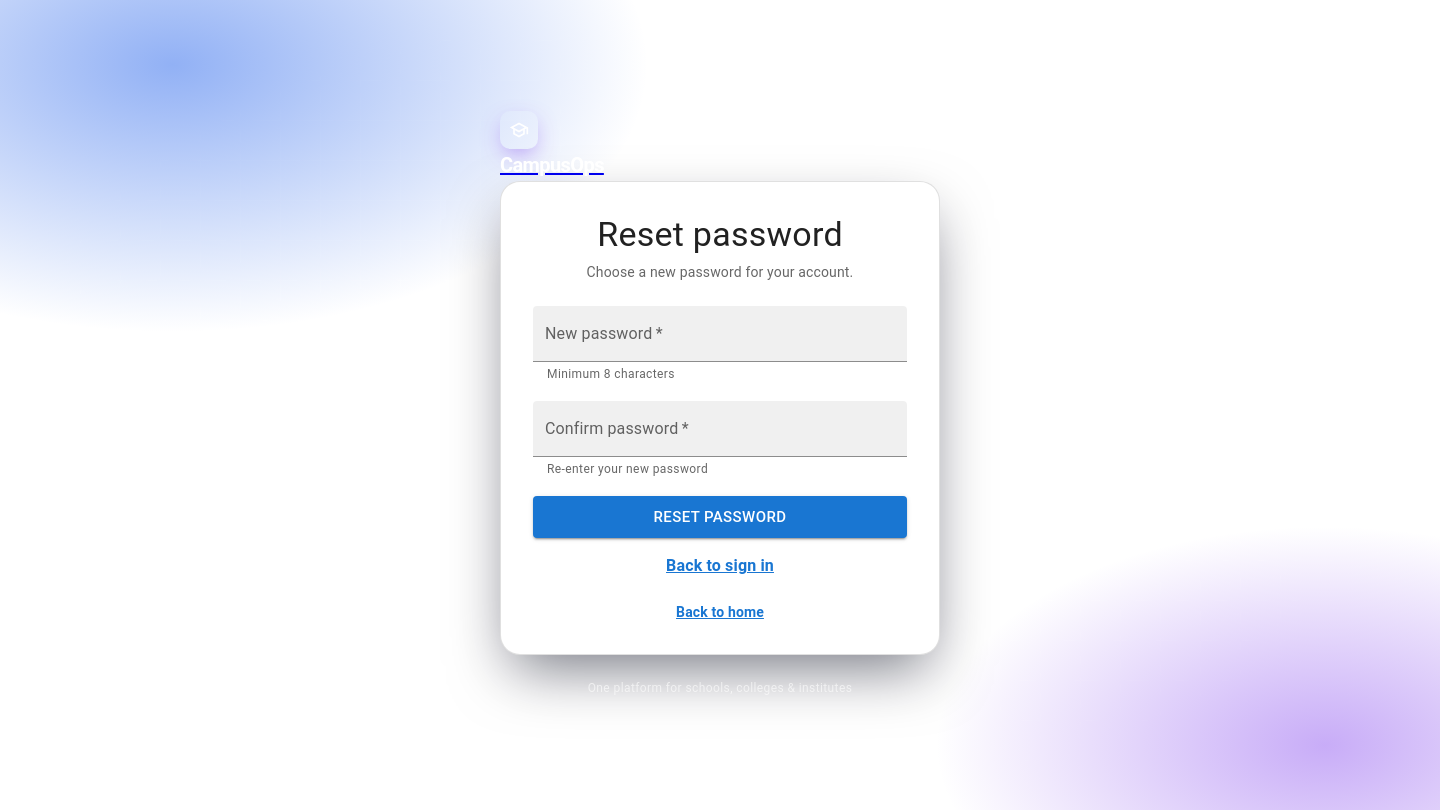
Test: ResetPasswordPage › shows success state after reset
Type "Password123!" into the password field labelled "New password *" at (720, 334), box left=533, top=306, right=907, bottom=362
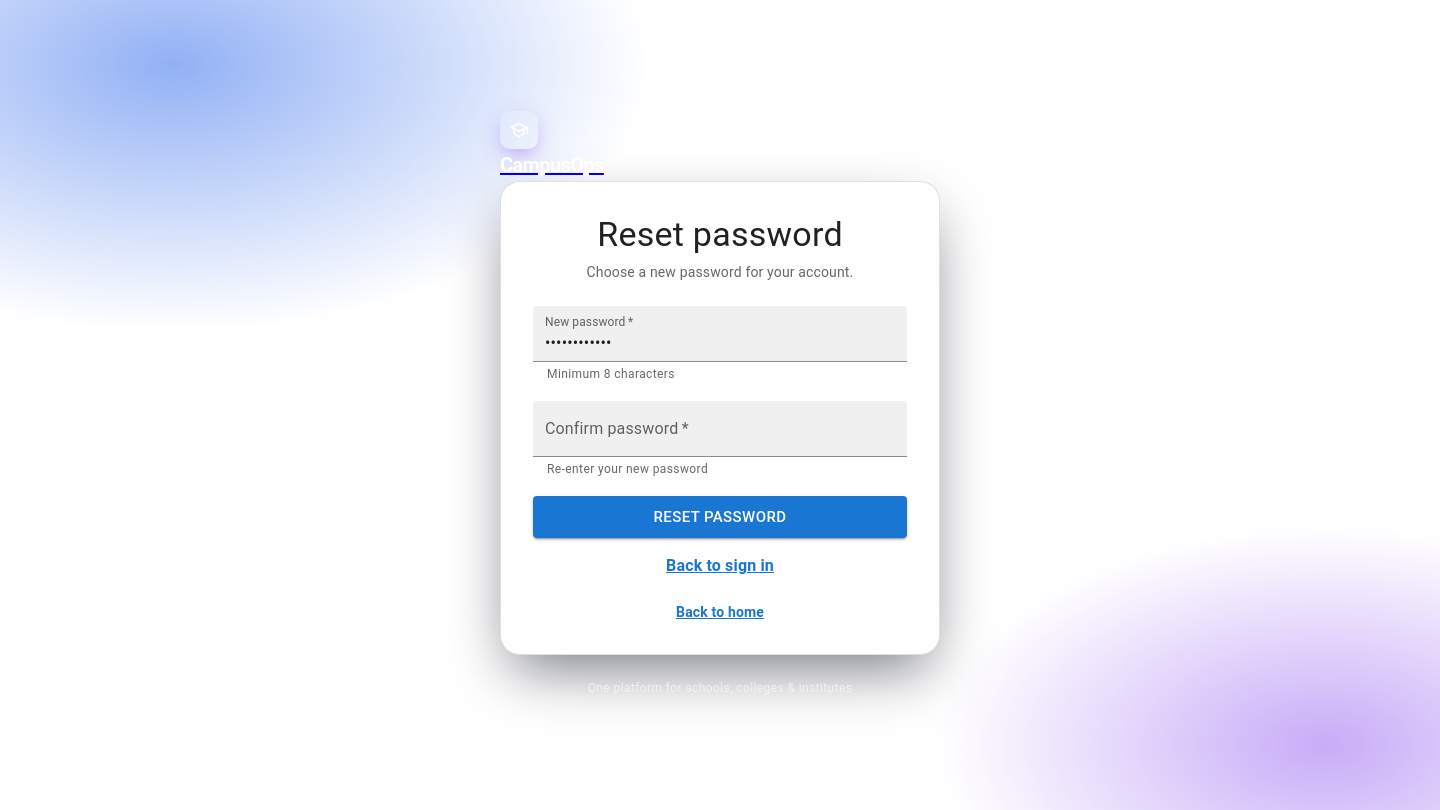
Type "Password123!" into the password field labelled "Confirm password *" at (720, 429), box left=533, top=401, right=907, bottom=457
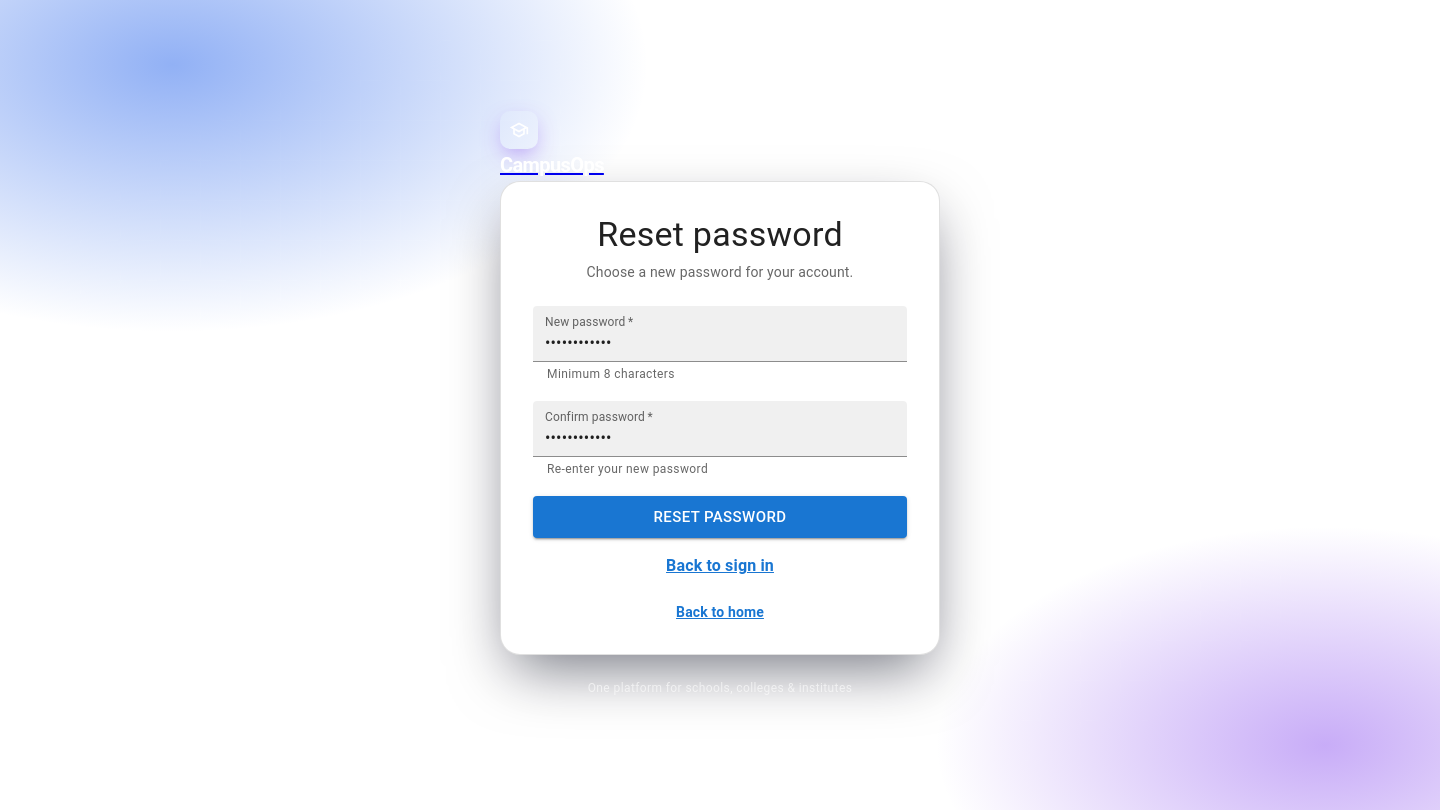
Click the button "Reset password" at (720, 517), box left=533, top=496, right=907, bottom=538
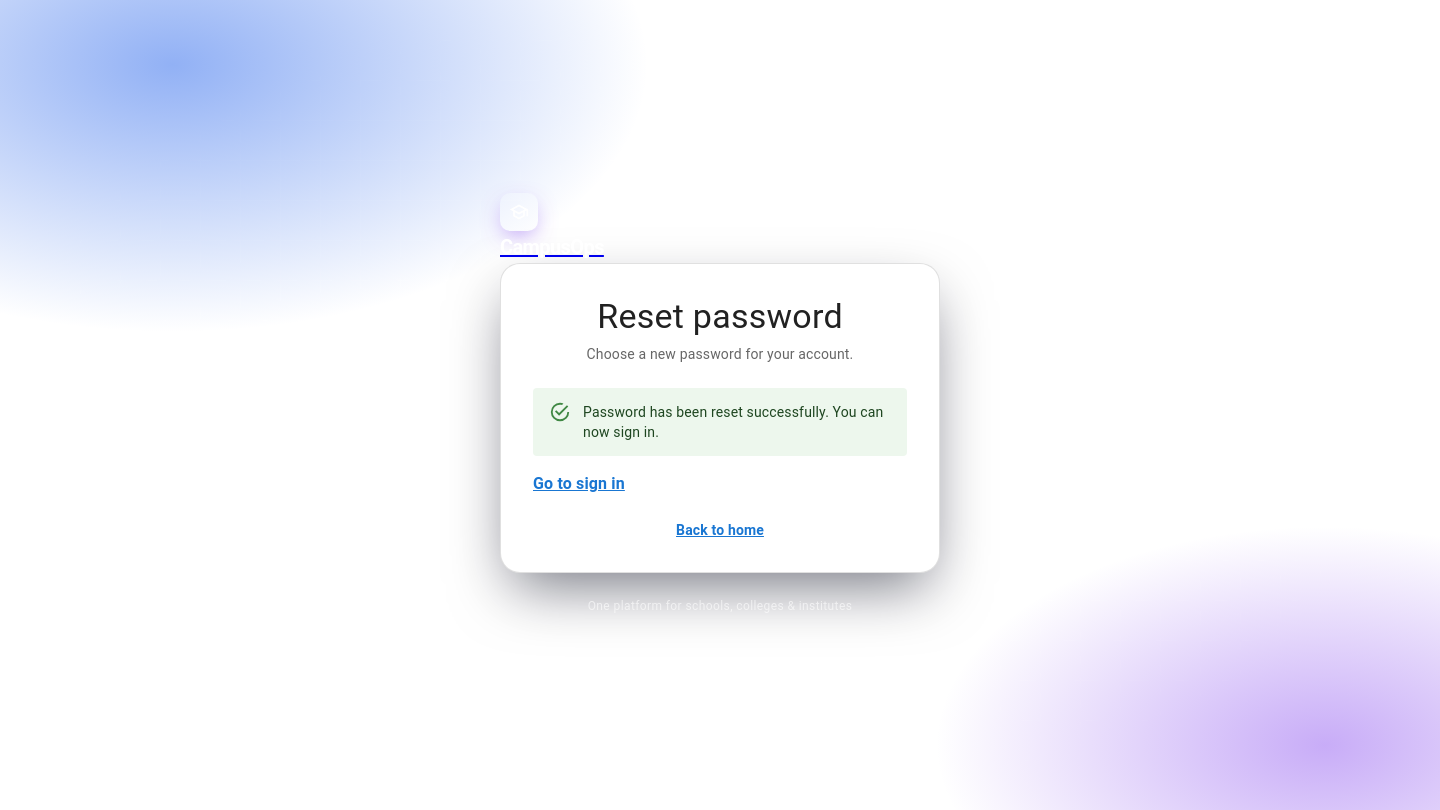
Expected: the text "Password has been reset successfully. You can now sign in." is shown, left=583, top=394, right=891, bottom=450
